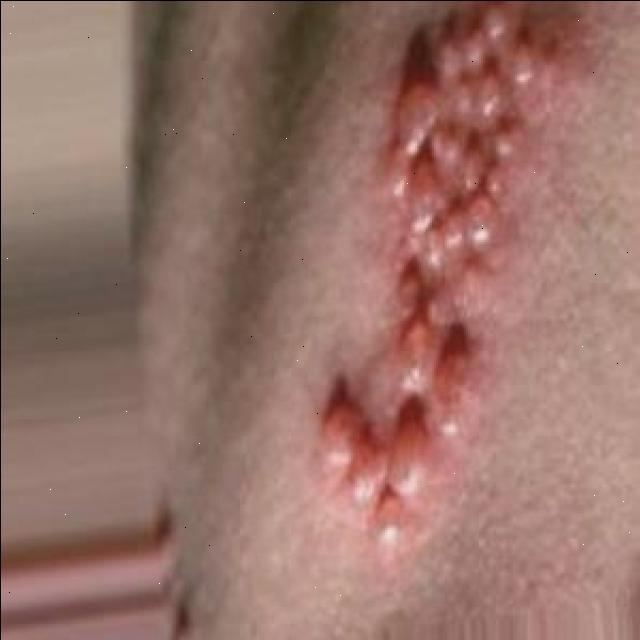Shingles: (314, 0, 547, 549)
